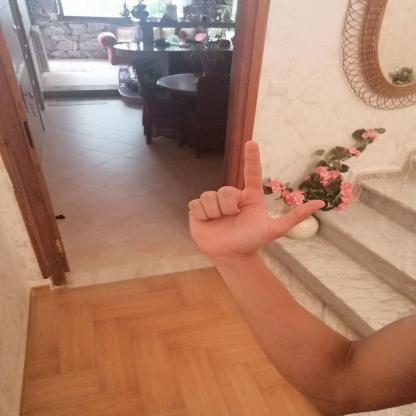LAAM: (175, 132, 334, 268)
